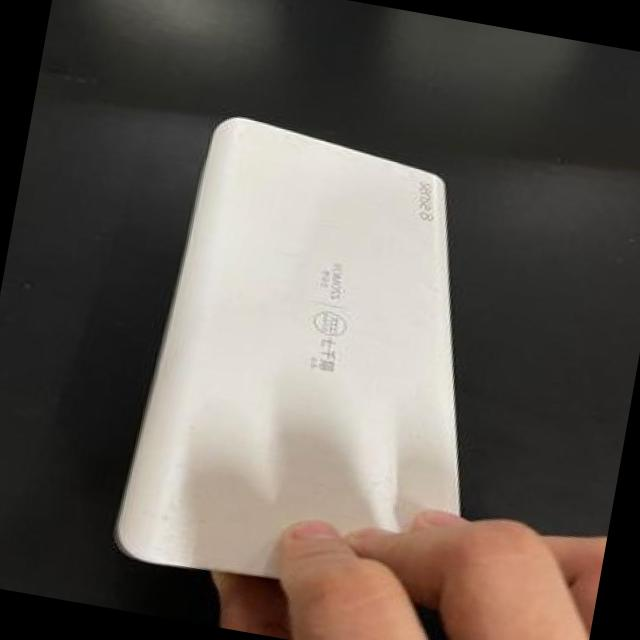portable-charger: (94, 102, 542, 638)
